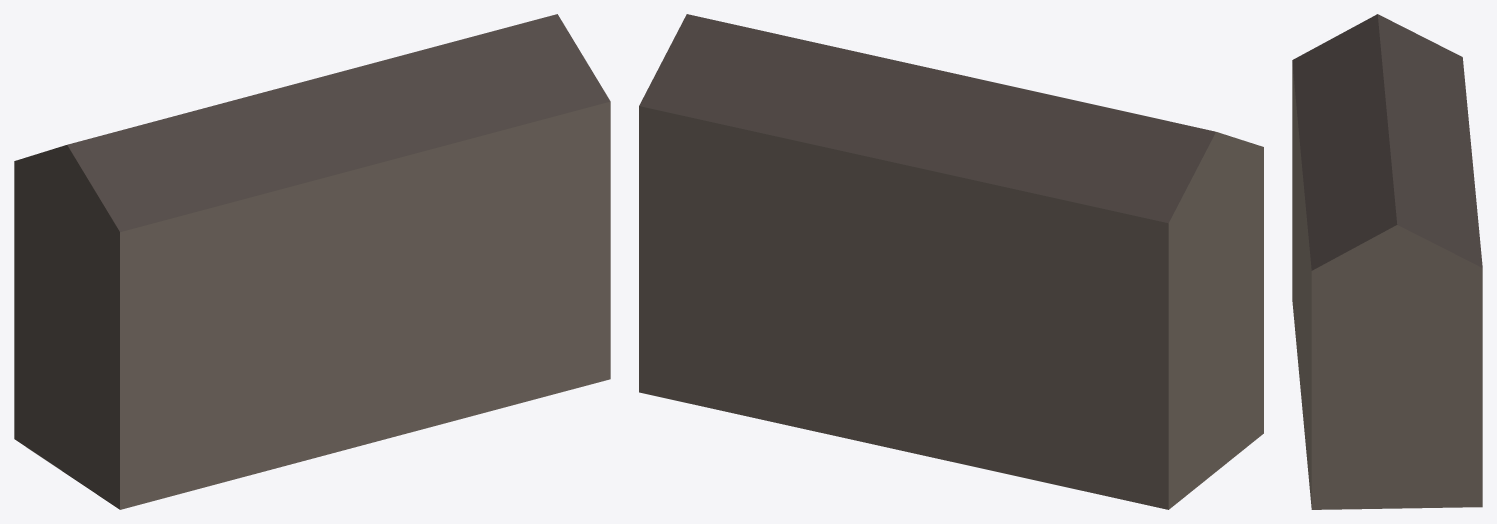
3 views of the same model, side by side, from view 1: azimuth 30°, elevation 25°; view 2: azimuth 150°, elevation 25°; view 3: azimuth 270°, elevation 25° (orthographic). The views are drawn at different scales.
Visible parts, largest first — view 1: HP-w1424106420; view 2: HP-w1424106420; view 3: HP-w1424106420.
Boxes of the visible parts, x1,y1,x2,y2 form: HP-w1424106420: (14,14,610,509); HP-w1424106420: (639,14,1263,509); HP-w1424106420: (1292,14,1482,509).
Bounding box in the file's own units: 11.5 × 7.12 × 4.34.
